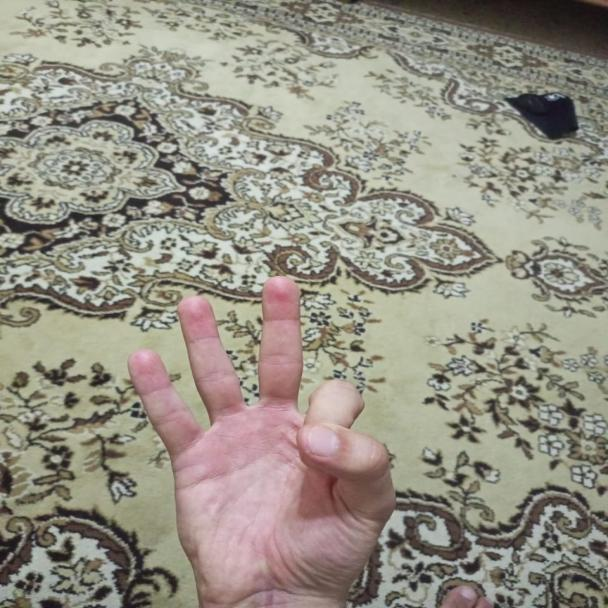five: (114, 268, 409, 596)
